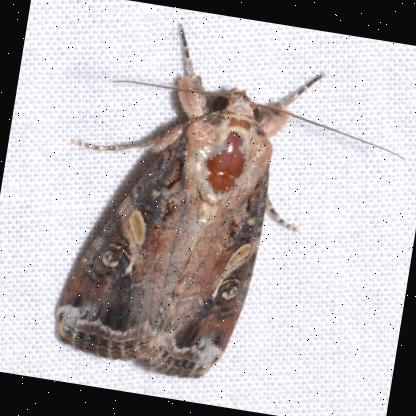Fall Armyworm Moth: (32, 5, 416, 411)
